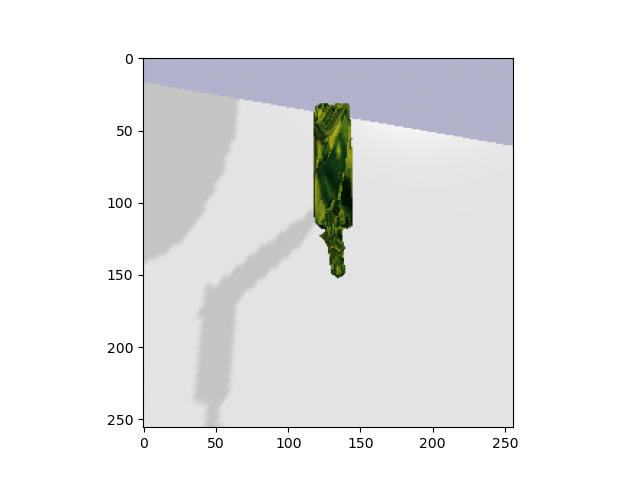v249b387_108: (307, 95, 364, 281)
